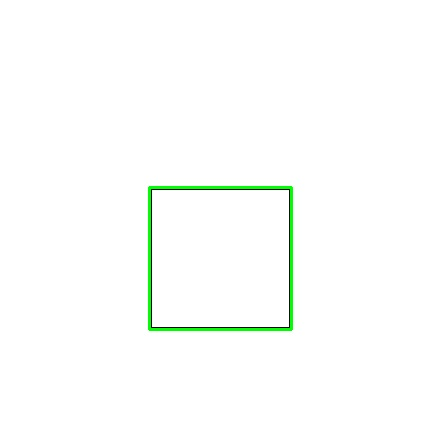line_segment: (148, 186, 293, 331)
